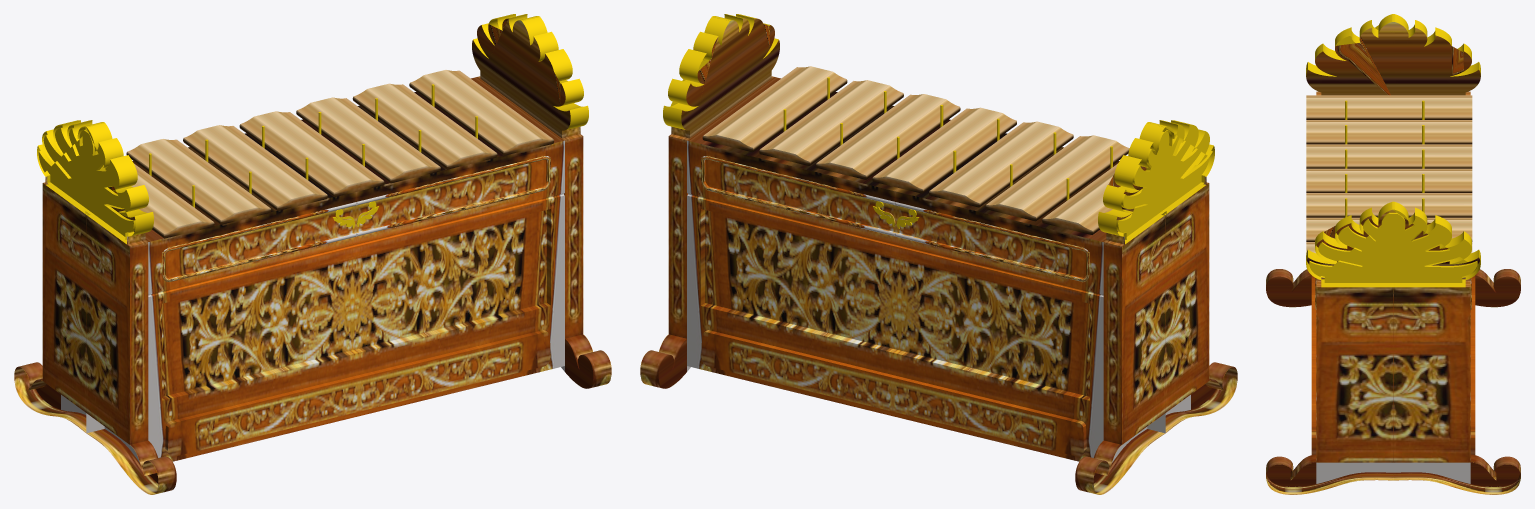
Rendered from slenthem.glb.
3 views of the same model, side by side, from view 1: azimuth 30°, elevation 25°; view 2: azimuth 150°, elevation 25°; view 3: azimuth 270°, elevation 25° (orthographic). The views are drawn at different scales.
Visible parts, largest first — view 1: Slenthem_01_Slenthem, Slenthem_02_Slenthem2, Slenthem_03_Slenthem4, Slenthem_00_Slenthem_1; view 2: Slenthem_01_Slenthem, Slenthem_02_Slenthem2, Slenthem_03_Slenthem4, Slenthem_00_Slenthem_1; view 3: Slenthem_03_Slenthem4, Slenthem_01_Slenthem, Slenthem_02_Slenthem2, Slenthem_00_Slenthem_1.
Boxes of the visible parts, x1,y1,x2,y2 form: Slenthem_01_Slenthem: [61, 70, 564, 462]; Slenthem_02_Slenthem2: [14, 18, 611, 494]; Slenthem_03_Slenthem4: [42, 183, 564, 444]; Slenthem_00_Slenthem_1: [37, 14, 588, 244]; Slenthem_01_Slenthem: [687, 66, 1190, 462]; Slenthem_02_Slenthem2: [640, 18, 1237, 494]; Slenthem_03_Slenthem4: [687, 183, 1209, 444]; Slenthem_00_Slenthem_1: [663, 14, 1214, 244]; Slenthem_03_Slenthem4: [1316, 287, 1470, 462]; Slenthem_01_Slenthem: [1306, 95, 1475, 483]; Slenthem_02_Slenthem2: [1266, 22, 1520, 494]; Slenthem_00_Slenthem_1: [1306, 14, 1480, 287].
Bounding box in the file's own units: 0.8447 × 0.5743 × 0.465.
65 materials, 63 textured.
